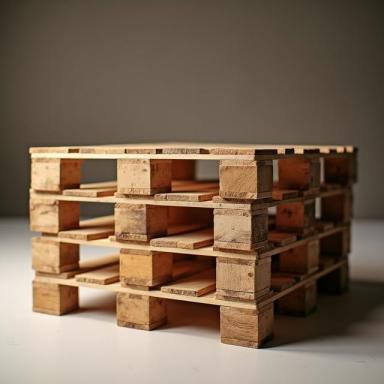pallet: (32, 255, 349, 349), (31, 220, 352, 300), (29, 183, 352, 251), (29, 142, 359, 200)
